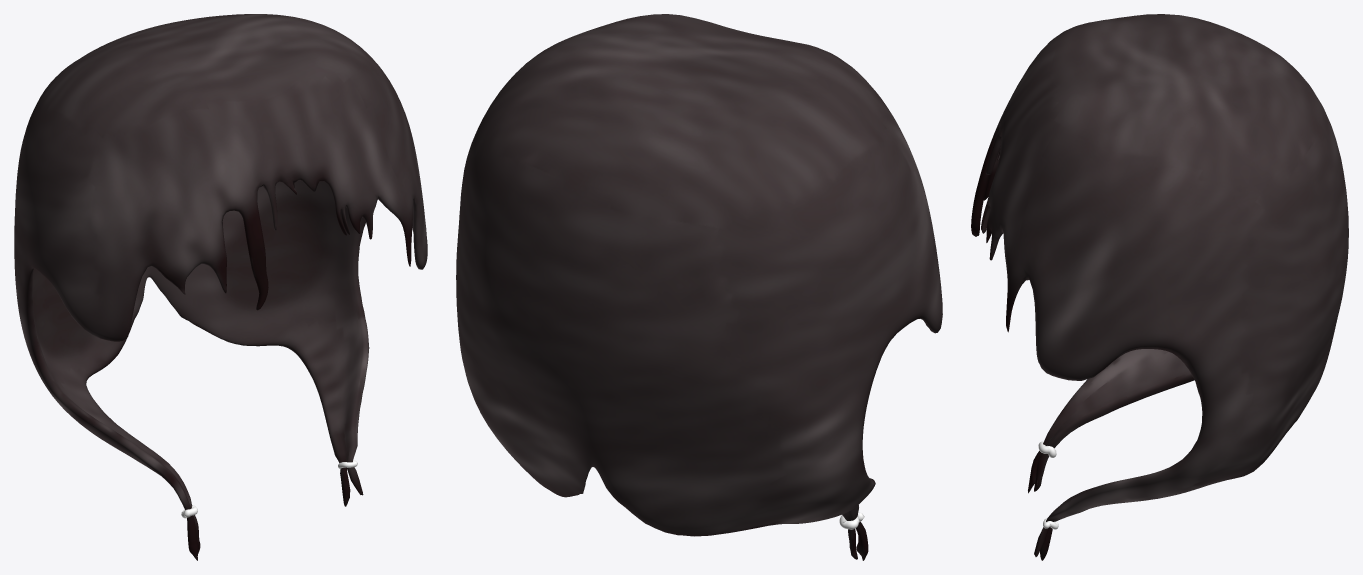
File: Braid_Brown.glb
3 views of the same model, side by side, from view 1: azimuth 30°, elevation 25°; view 2: azimuth 150°, elevation 25°; view 3: azimuth 270°, elevation 25° (orthographic). The views are drawn at different scales.
Parts seen in each view (by area): view 1: Braid_Brown; view 2: Braid_Brown; view 3: Braid_Brown.
Boxes of the visible parts, x1,y1,x2,y2 form: Braid_Brown: (14, 14, 427, 560); Braid_Brown: (456, 14, 942, 560); Braid_Brown: (971, 14, 1348, 560).
Size of the model in its own units: 0.936 by 1.11 by 0.791.
2 materials, 1 textured.
